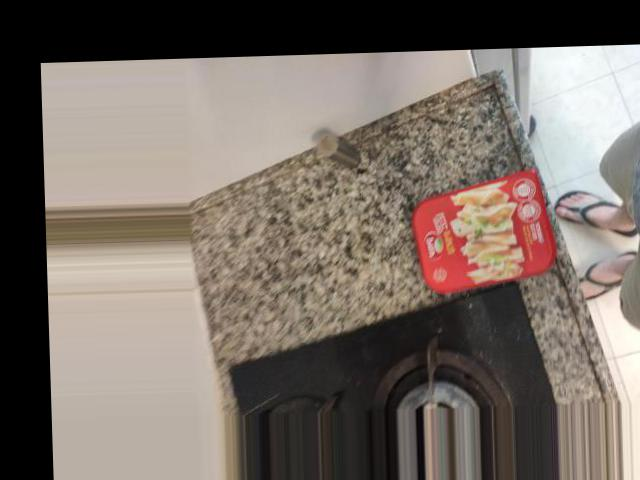cheese: (415, 165, 576, 293)
